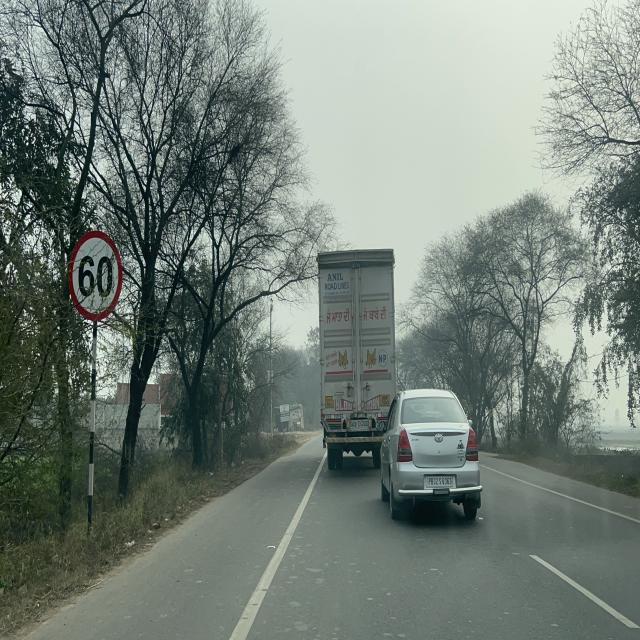SPEED_LIMIT_60: (68, 231, 123, 321)
